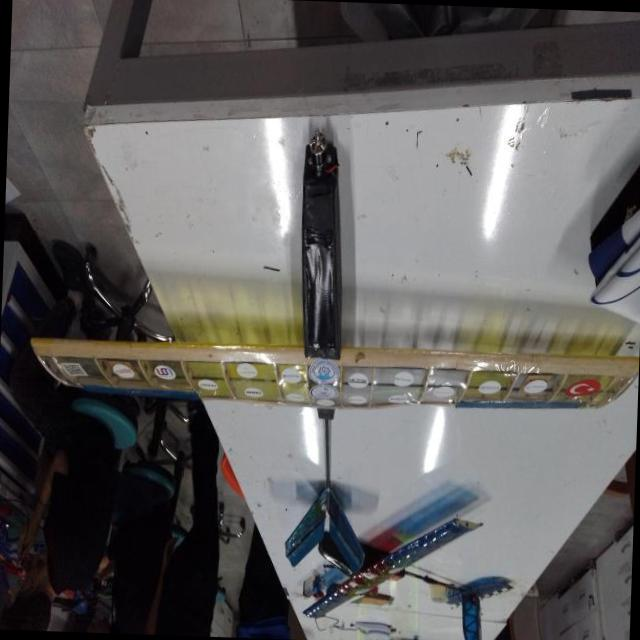UAV: (24, 80, 585, 566)
